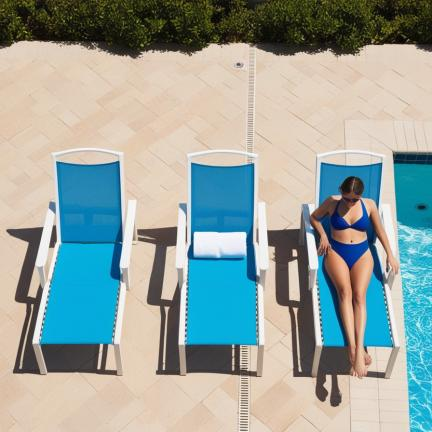empty chair: (32, 148, 137, 375)
guest on chair: (302, 150, 399, 378)
occupied chair: (176, 150, 269, 376)
